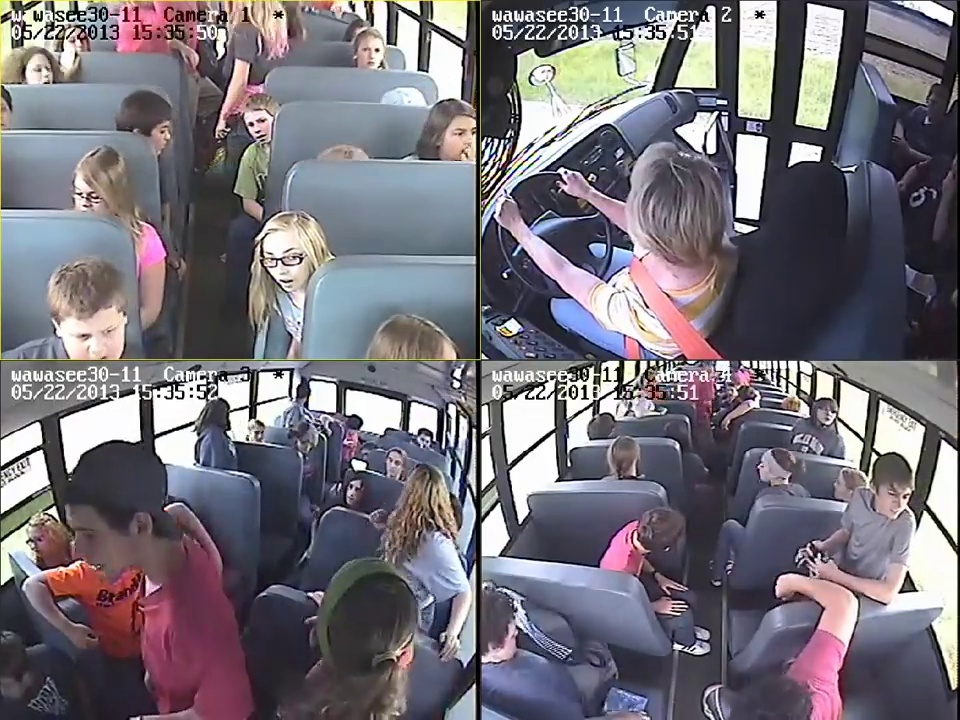face: (67, 500, 133, 585), (57, 314, 123, 366), (262, 236, 303, 288), (78, 171, 106, 214), (26, 521, 55, 559), (449, 123, 478, 160), (880, 483, 910, 518), (245, 111, 273, 147), (492, 623, 519, 660), (23, 58, 55, 86), (358, 39, 386, 68), (150, 121, 171, 153), (343, 481, 366, 504), (757, 458, 775, 486), (414, 427, 432, 450), (385, 455, 405, 475), (818, 405, 837, 424), (248, 428, 263, 441)
